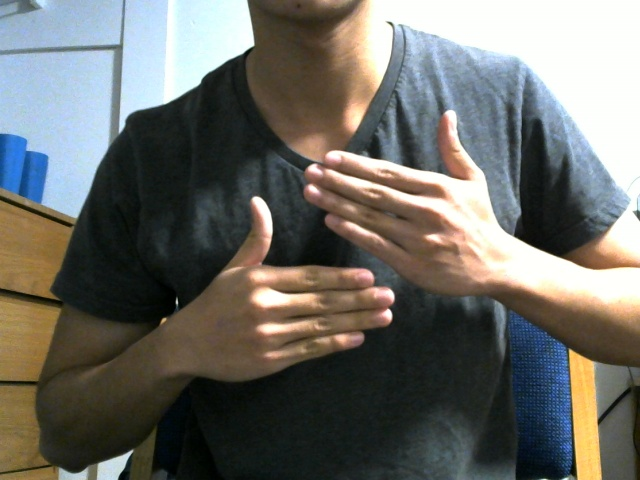Enjoy: (171, 98, 511, 385)
